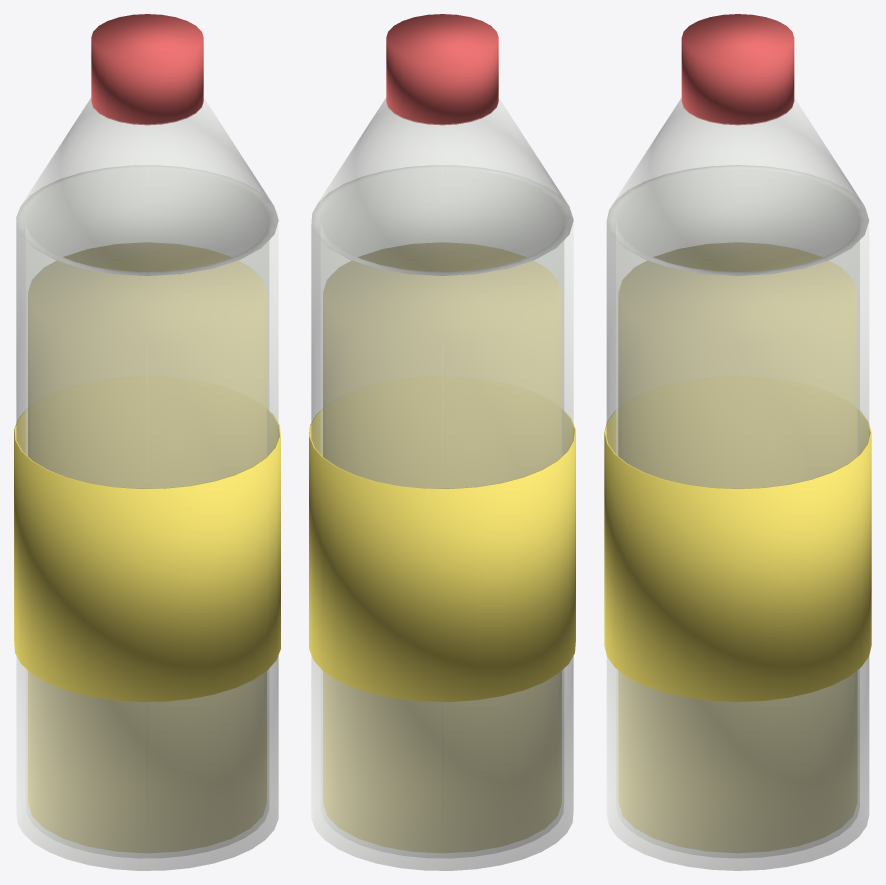
Rendered from oil_bottle.glb.
The picture shows the model from 3 angles, left to right: view 1: azimuth 30°, elevation 25°; view 2: azimuth 150°, elevation 25°; view 3: azimuth 270°, elevation 25°; orthographic projection.
Parts seen in each view (by area): view 1: ob_body, ob_oil, ob_label, ob_shoulder, ob_cap; view 2: ob_body, ob_oil, ob_label, ob_shoulder, ob_cap; view 3: ob_body, ob_oil, ob_label, ob_shoulder, ob_cap.
Boxes of the visible parts, left/top/right/bottom form: ob_body: left=16, top=165, right=278, bottom=870; ob_oil: left=28, top=242, right=266, bottom=852; ob_label: left=14, top=409, right=280, bottom=701; ob_shoulder: left=16, top=98, right=278, bottom=275; ob_cap: left=91, top=14, right=203, bottom=125; ob_body: left=311, top=165, right=573, bottom=870; ob_oil: left=323, top=242, right=561, bottom=852; ob_label: left=309, top=409, right=575, bottom=701; ob_shoulder: left=311, top=98, right=573, bottom=275; ob_cap: left=386, top=14, right=498, bottom=125; ob_body: left=606, top=165, right=869, bottom=870; ob_oil: left=618, top=242, right=857, bottom=852; ob_label: left=604, top=409, right=871, bottom=701; ob_shoulder: left=606, top=98, right=869, bottom=275; ob_cap: left=681, top=14, right=794, bottom=125.
Size of the model in its own units: 0.057 by 0.183 by 0.057.
